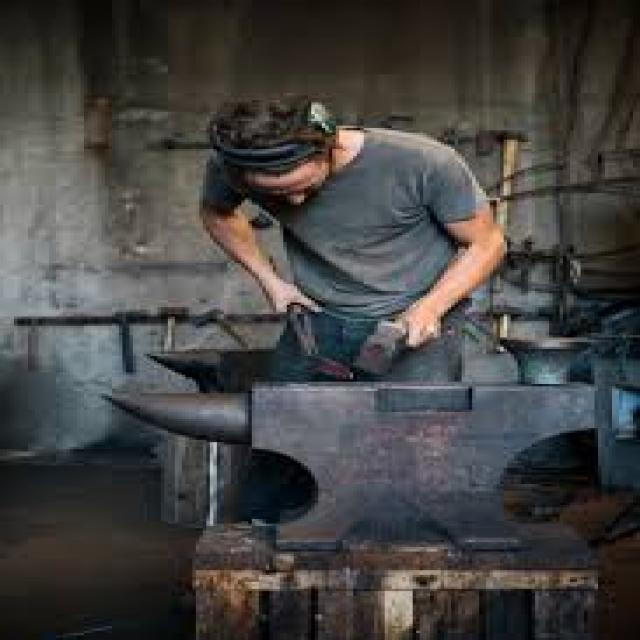hammer: (355, 318, 453, 383)
